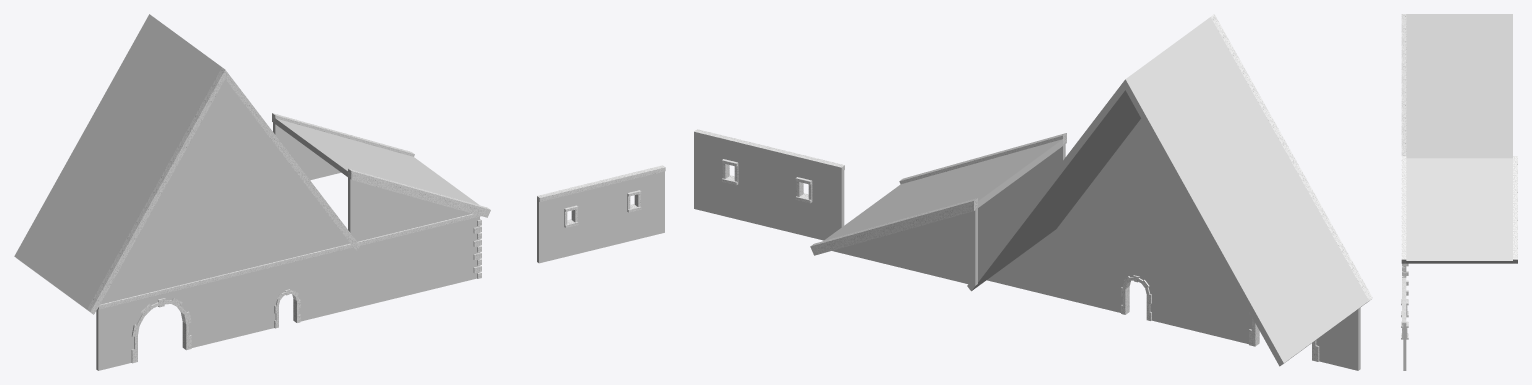
Rendered from mod_factory_base.fbx.
3 views of the same model, side by side, from view 1: azimuth 30°, elevation 25°; view 2: azimuth 150°, elevation 25°; view 3: azimuth 270°, elevation 25° (orthographic). The views are drawn at different scales.
Visible parts, largest first — view 1: factory_wall_roof, factory_roof, factory_wall_windows, factory_wall, factory_wall_entrance_small, factory_wall_entrance_large, factory_wall_angle_left, factory_roof_angle, factory_wall_angle_right; view 2: factory_roof, factory_wall_windows, factory_wall_roof, factory_wall_entrance_small, factory_wall_angle_right, factory_roof_angle, factory_wall_entrance_large, factory_wall, factory_wall_angle_left; view 3: factory_roof, factory_roof_angle, factory_wall_roof, factory_wall_angle_left, factory_wall_angle_right, factory_wall_windows, factory_wall_corner.
Part boxes in pixels (<box>): factory_wall_roof: <box>87,67,360,314</box>; factory_roof: <box>14,14,221,310</box>; factory_wall_windows: <box>537,165,665,263</box>; factory_wall: <box>350,213,476,309</box>; factory_wall_entrance_small: <box>224,243,350,339</box>; factory_wall_entrance_large: <box>96,274,224,370</box>; factory_wall_angle_left: <box>348,168,490,241</box>; factory_roof_angle: <box>275,118,479,205</box>; factory_wall_angle_right: <box>272,113,414,180</box>; factory_roof: <box>967,17,1368,366</box>; factory_wall_windows: <box>694,129,844,240</box>; factory_wall_roof: <box>1063,14,1372,302</box>; factory_wall_entrance_small: <box>1063,222,1210,334</box>; factory_wall_angle_right: <box>810,198,977,285</box>; factory_roof_angle: <box>824,139,1062,240</box>; factory_wall_entrance_large: <box>1210,258,1360,370</box>; factory_wall: <box>978,203,1062,298</box>; factory_wall_angle_left: <box>899,133,1066,221</box>; factory_roof: <box>1406,14,1512,158</box>; factory_roof_angle: <box>1406,158,1512,263</box>; factory_wall_roof: <box>1401,14,1406,155</box>; factory_wall_angle_left: <box>1401,156,1406,263</box>; factory_wall_angle_right: <box>1513,156,1517,263</box>; factory_wall_windows: <box>1401,277,1408,370</box>; factory_wall_corner: <box>1402,263,1408,295</box>.
Size of the model in its own units: 45.73 by 20.6 by 10.95.
